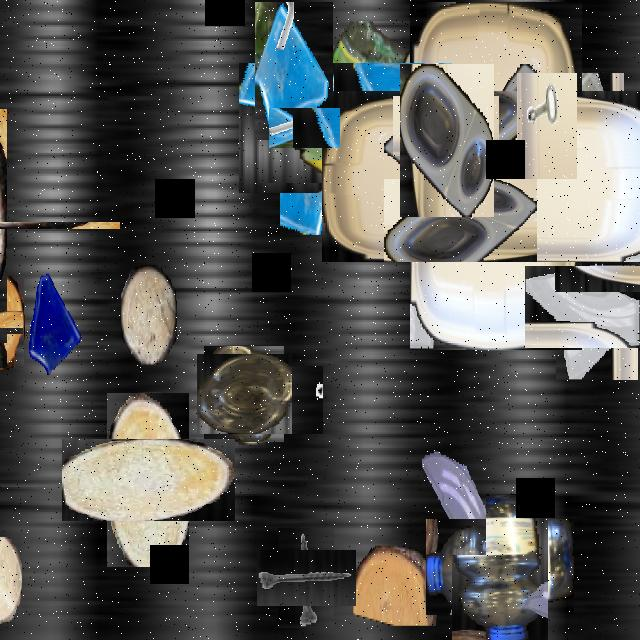glass: (540, 250, 640, 364), (255, 2, 333, 140), (422, 441, 486, 555), (23, 269, 83, 375), (568, 73, 624, 172)
metal: (517, 73, 577, 179), (267, 539, 345, 617), (276, 100, 332, 156), (285, 366, 323, 434)
plastic: (366, 46, 626, 306), (259, 42, 431, 214), (439, 506, 561, 628), (400, 64, 494, 217), (200, 351, 288, 438)
wood: (84, 416, 212, 544), (0, 165, 63, 286), (353, 546, 439, 624), (121, 265, 177, 364), (0, 292, 41, 351), (0, 537, 22, 622)
